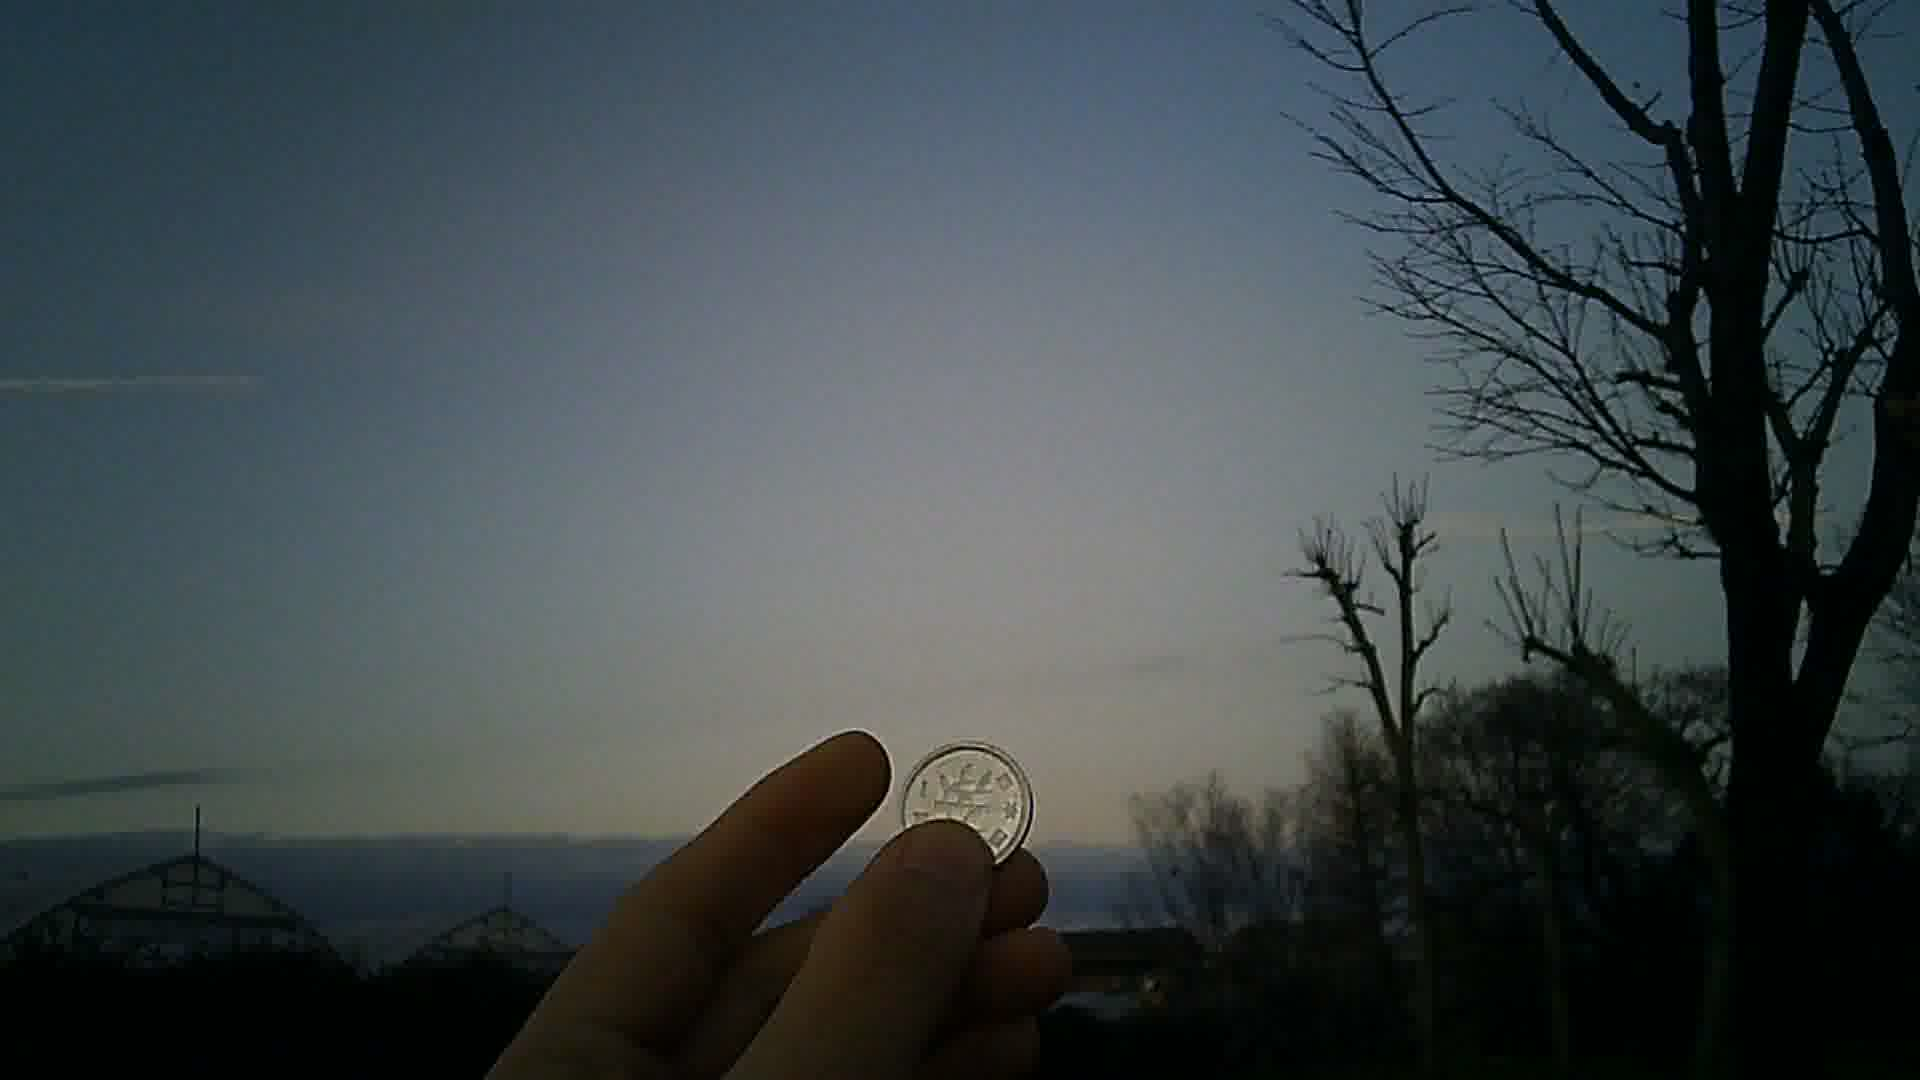1 Yen: (899, 738, 1036, 880)
